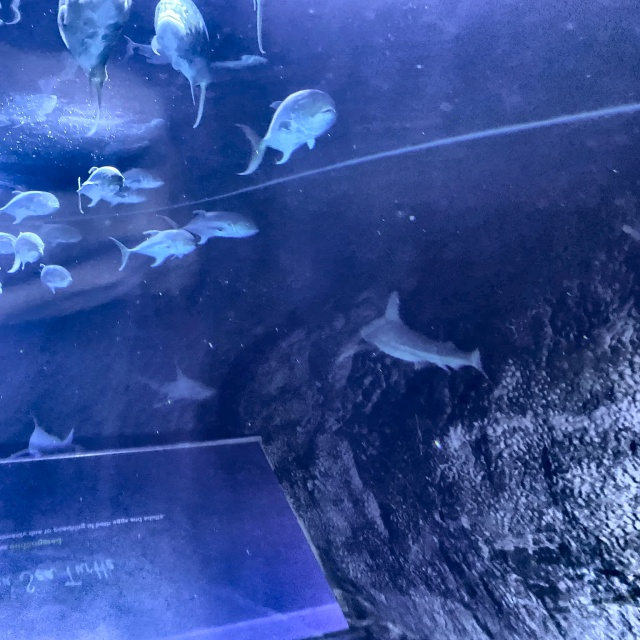fish: (235, 89, 337, 175), (151, 2, 212, 130), (57, 0, 132, 103), (109, 229, 195, 271), (155, 210, 258, 245), (76, 166, 124, 214), (0, 191, 60, 224), (8, 231, 43, 272), (34, 222, 82, 248), (39, 263, 74, 295), (123, 168, 165, 190), (102, 187, 146, 208)
shark: (334, 292, 491, 379), (142, 364, 217, 409), (5, 419, 82, 461)
